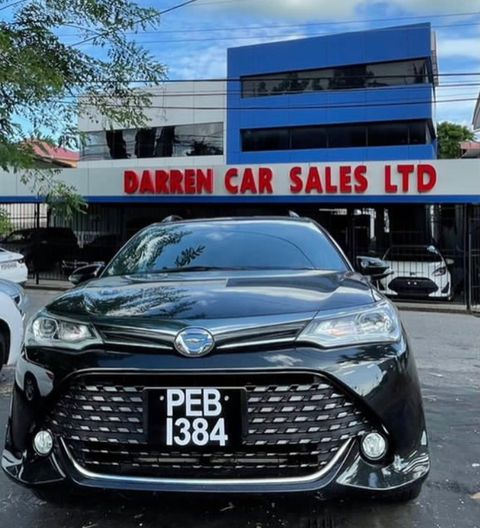License-Plate: (148, 387, 240, 450)
